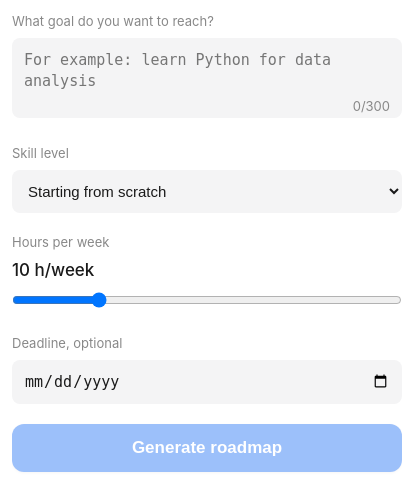
GoalForm › enables the button when the goal has at least 10 characters
In the text box with placeholder "For example: learn Python for data analysis": coordinates (207, 78) [12,38,402,118], type "Learn Python fundamentals"
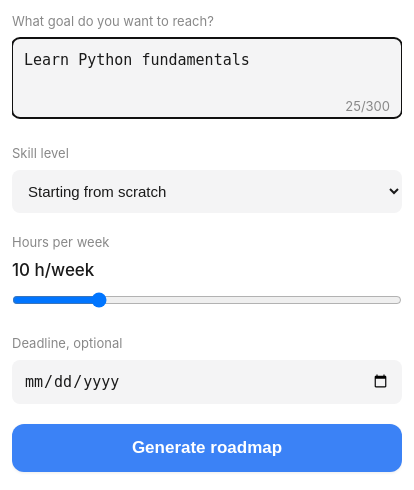
expect the button is enabled: met, box [12,424,402,472]
